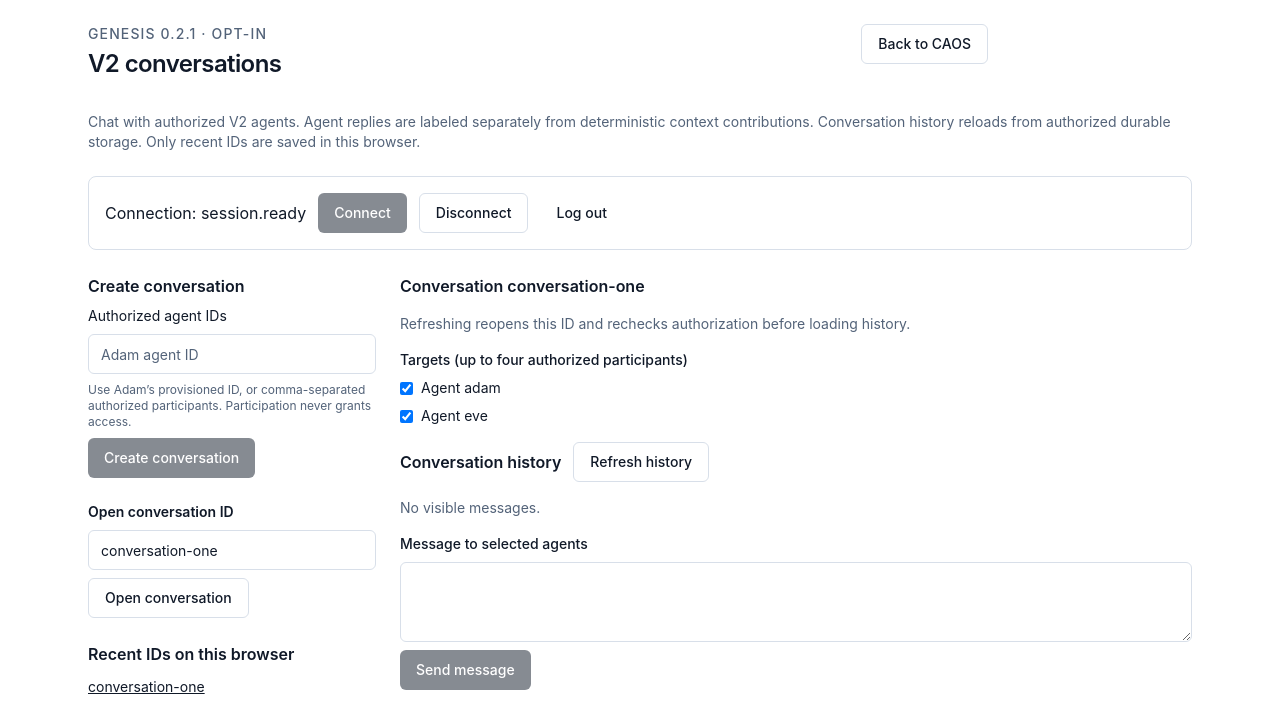
Test: keeps cancel tied to its original request and surfaces correlated errors
The width and height of the screenshot is (1280, 710).
Type "Cancel me" into the text box labelled "Message to selected agents".
click(796, 602); type("Cancel me")  # box top-left (400, 562), bottom-right (1192, 642)
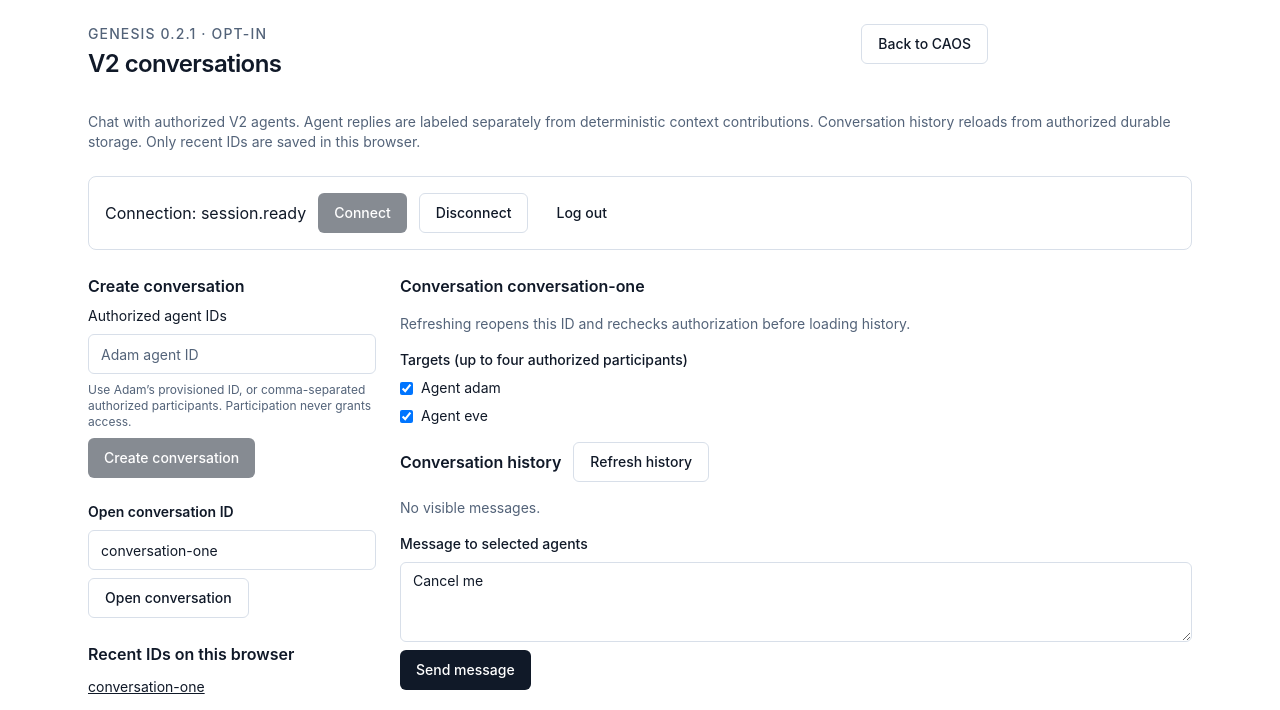
Click the button "Send message".
click(465, 670)  # box top-left (400, 650), bottom-right (531, 690)
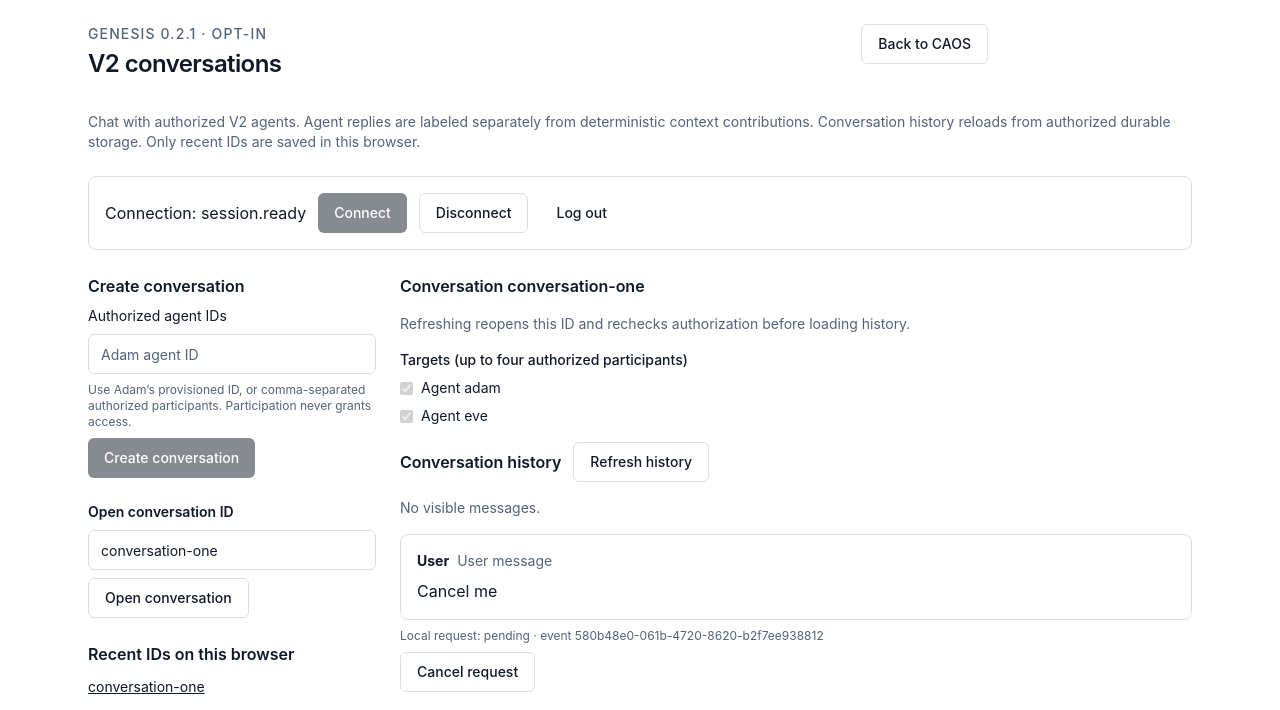
Click the button "Cancel request".
click(468, 672)  # box top-left (400, 652), bottom-right (535, 692)
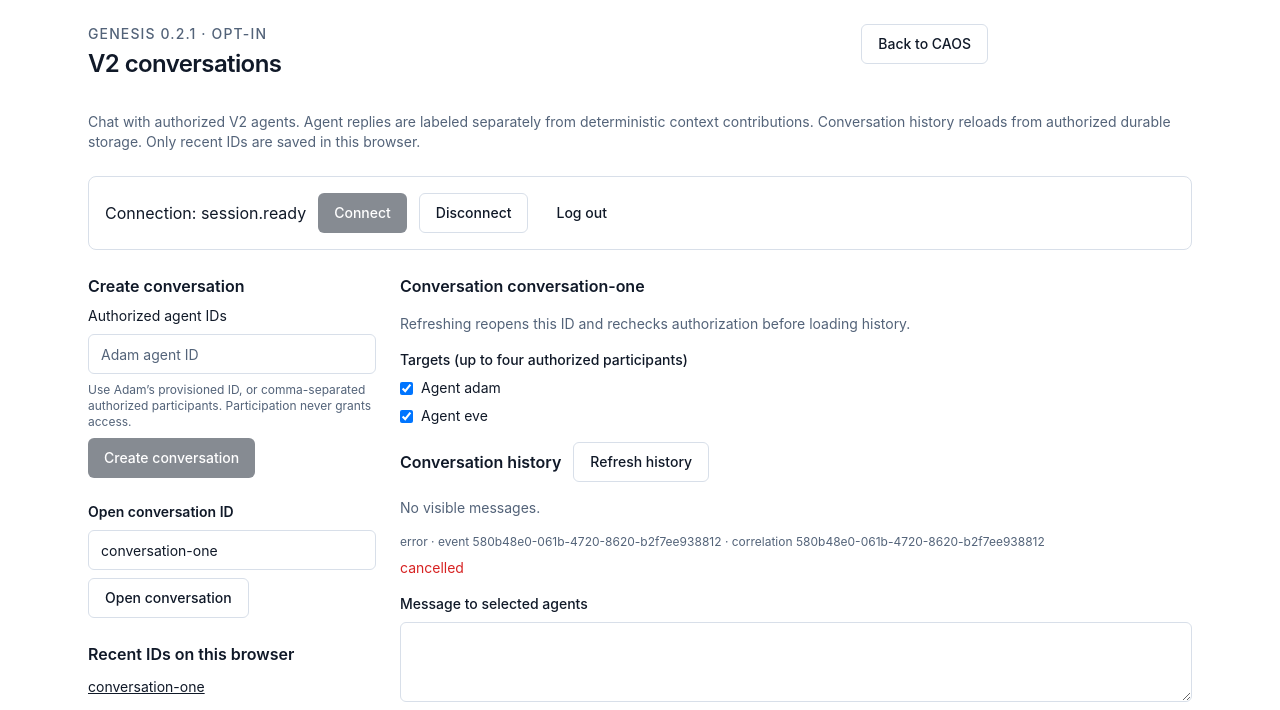
Result: the message "cancelled" is shown at top-left (400, 559), bottom-right (464, 576)
